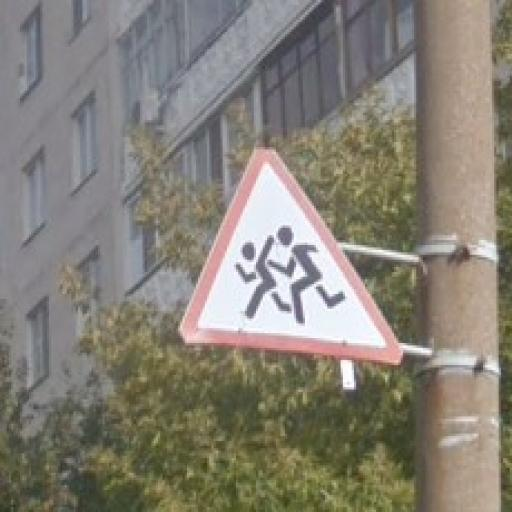traffic_sign: (179, 148, 404, 368)
